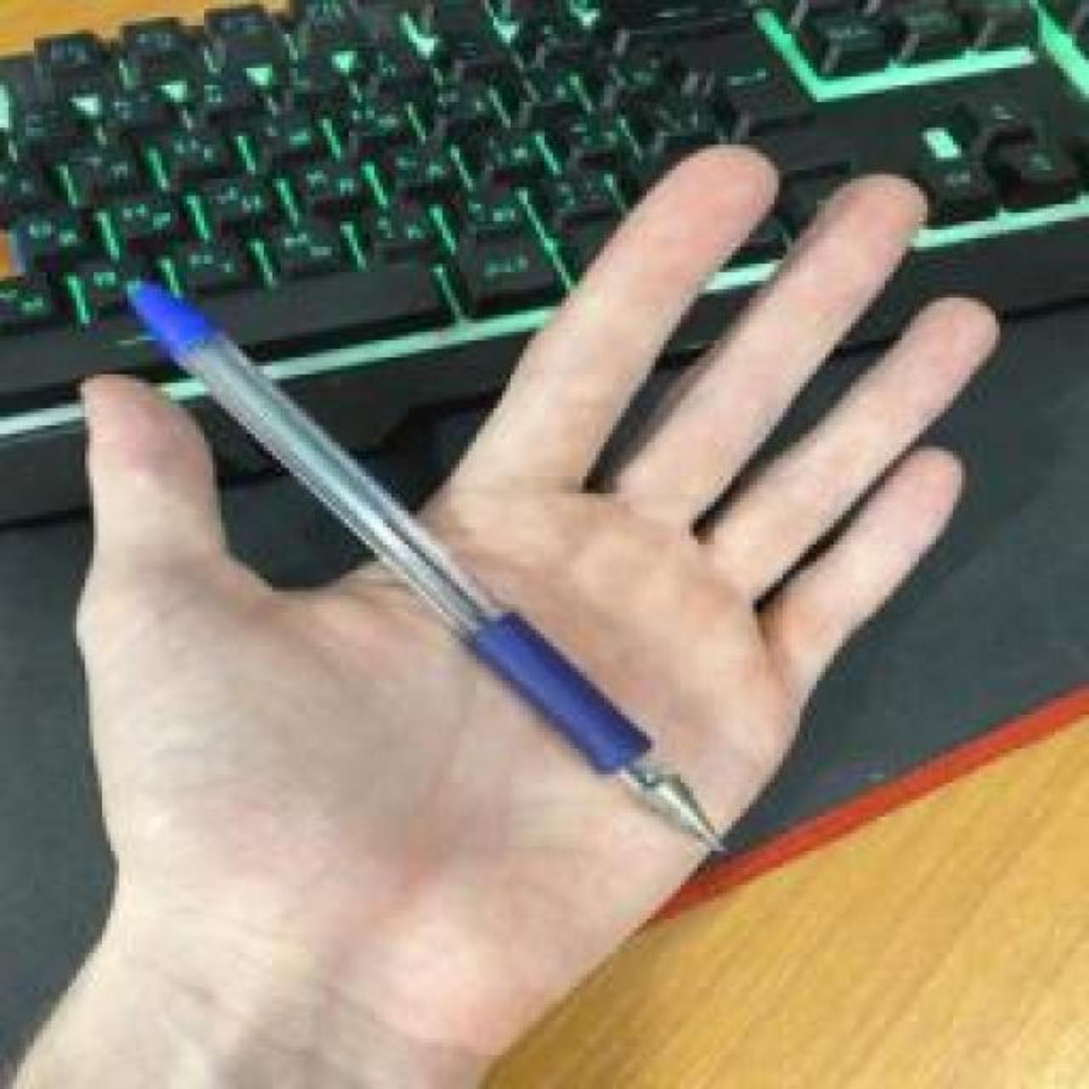pen: (128, 277, 737, 861)
